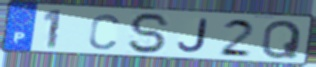1: (41, 9, 64, 50)
2: (216, 18, 258, 58)
C: (86, 12, 121, 51)
J: (176, 18, 210, 54)
Q: (260, 19, 304, 60)
S: (127, 12, 173, 55)
